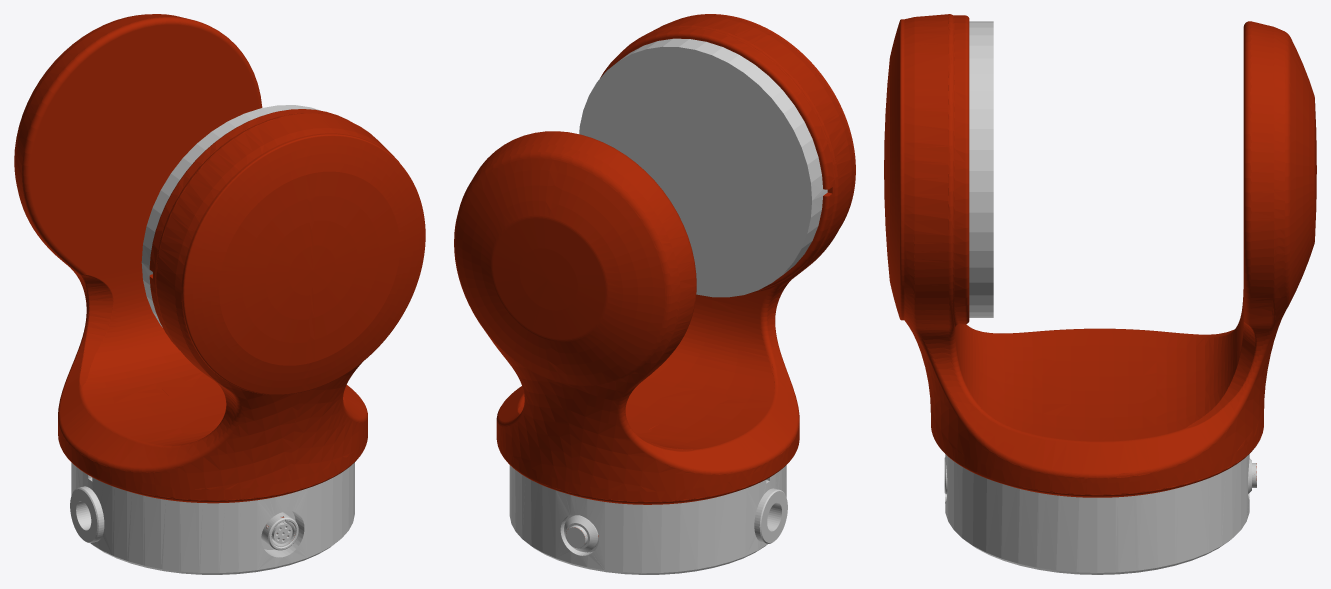
The picture shows the model from 3 angles, left to right: view 1: azimuth 30°, elevation 25°; view 2: azimuth 150°, elevation 25°; view 3: azimuth 270°, elevation 25°; orthographic projection. The views are drawn at different scales.
Parts seen in each view (by area): view 1: Link7_R; view 2: Link7_R; view 3: Link7_R.
Boxes of the visible parts, x1=… form: Link7_R: x1=14, y1=14, x2=425, y2=574; Link7_R: x1=454, y1=14, x2=855, y2=574; Link7_R: x1=884, y1=14, x2=1316, y2=574.
Bounding box in the file's own units: 0.082 × 0.1334 × 0.1065.
